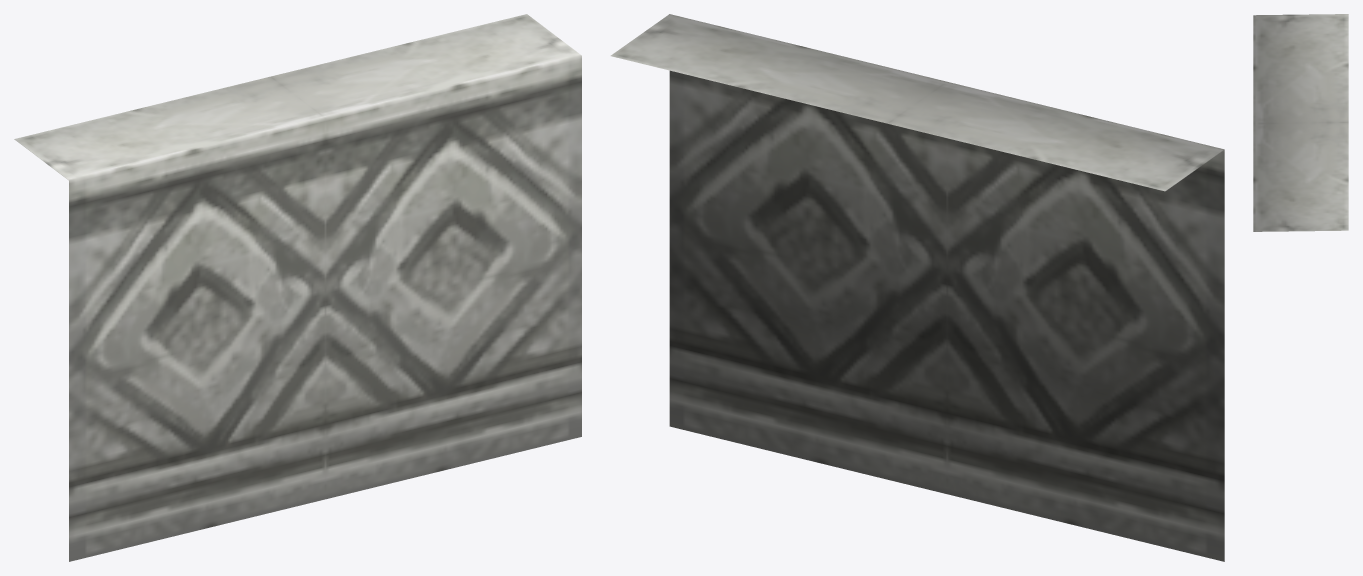
The model's file is unity_dungeon_wall02.FBX.
The picture shows the model from 3 angles, left to right: view 1: azimuth 30°, elevation 25°; view 2: azimuth 150°, elevation 25°; view 3: azimuth 270°, elevation 25°; orthographic projection. The views are drawn at different scales.
Parts seen in each view (by area): view 1: unity_dungeon_wall02; view 2: unity_dungeon_wall02; view 3: unity_dungeon_wall02.
Part boxes in pixels (left/top/right/bottom): unity_dungeon_wall02: left=14, top=14, right=581, bottom=561; unity_dungeon_wall02: left=610, top=14, right=1224, bottom=561; unity_dungeon_wall02: left=1253, top=14, right=1348, bottom=231.
Size of the model in its own units: 2.57 by 1.83 by 0.4767.
